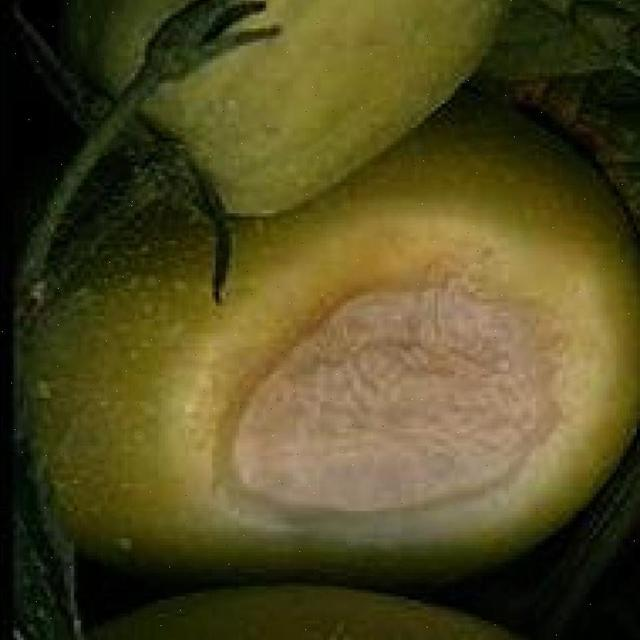Sunscald Fruit: (135, 168, 403, 349)
